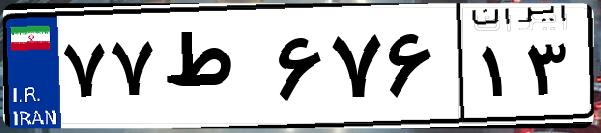1: (475, 38, 525, 113)
3: (525, 38, 570, 115)
6: (270, 28, 330, 110), (385, 28, 445, 110)
7: (330, 28, 385, 110), (57, 26, 110, 100), (110, 28, 158, 98)
ط: (158, 20, 270, 120)
